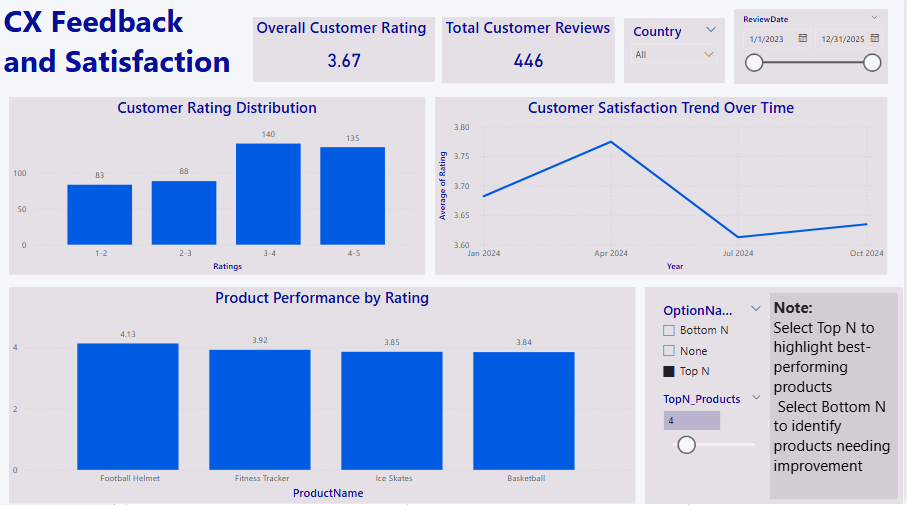

The page's visual inventory and layout, read from the dashboard file:
{"tool":"powerbi","page":{"name":"Customer Feedback & Satisfaction","canvas":[1280,720],"ordinal":3},"visuals":[{"type":"shape","box":[914.2,412.4,365.7,307.6],"z":0},{"type":"clusteredColumnChart","title":"Customer Rating Distribution","fields":{"Category":["vw_customer_reviews_final.Rating Bucket"],"Y":["CountNonNull(vw_customer_reviews_final.ReviewID)"]},"box":[12.8,143.1,589.6,252.3],"z":1000},{"type":"clusteredColumnChart","title":"Product Performance by Rating ","fields":{"Category":["vw_products_final.ProductName"],"Y":["Avg(vw_customer_reviews_final.Rating)"]},"box":[13.2,413,887.6,307.1],"z":2000},{"type":"lineChart","title":"Customer Satisfaction Trend Over Time","fields":{"Category":["vw_customer_reviews_final.ReviewDate.Variation.Date Hierarchy.Year","vw_customer_reviews_final.ReviewDate.Variation.Date Hierarchy.Quarter","vw_customer_reviews_final.ReviewDate.Variation.Date Hierarchy.Month","vw_customer_reviews_final.ReviewDate.Variation.Date Hierarchy.Day"],"Y":["Avg(vw_customer_reviews_final.Rating)"]},"box":[616.5,143.1,640.6,252.3],"z":3000},{"type":"slicer","fields":{"Values":["OptionTable.OptionName"]},"box":[926.9,426.6,164.4,127.6],"z":4000},{"type":"slicer","fields":{"Values":["TopN_Products.TopN_Products"]},"box":[926.9,554.2,164.4,165.8],"z":5000},{"type":"textbox","box":[1091.3,420.9,181.4,292],"z":6000},{"type":"card","title":"Overall Customer Rating","fields":{"Values":["KPI_Measures.Avg Rating"]},"box":[358.6,29.8,258,92.1],"z":7000},{"type":"card","title":"Total Customer Reviews","fields":{"Values":["CountNonNull(vw_customer_reviews_final.ReviewID)"]},"box":[626.5,29.8,245.2,93.5],"z":8000},{"type":"slicer","fields":{"Values":["vw_customer_reviews_final.ReviewDate"]},"box":[1040.3,18.4,216.9,104.9],"z":9000},{"type":"slicer","fields":{"Values":["vw_geography_final.Country"]},"box":[884.4,31.2,143.1,92.1],"z":10000},{"type":"textbox","box":[0,0,341.6,133.2],"z":10001}]}

Visuals, with their boxes in screenshot pixels (x1, y1, x2, y2), scaled from the page's 1280x720 canvas onto the 907x505 screenshot:
shape: [left=648, top=289, right=906, bottom=504]
"Customer Rating Distribution" clusteredColumnChart: [left=9, top=100, right=427, bottom=277]
"Product Performance by Rating " clusteredColumnChart: [left=9, top=290, right=638, bottom=504]
"Customer Satisfaction Trend Over Time" lineChart: [left=437, top=100, right=891, bottom=277]
slicer - OptionTable.OptionName: [left=657, top=299, right=773, bottom=389]
slicer - TopN_Products.TopN_Products: [left=657, top=389, right=773, bottom=504]
textbox: [left=773, top=295, right=902, bottom=500]
"Overall Customer Rating" card: [left=254, top=21, right=437, bottom=85]
"Total Customer Reviews" card: [left=444, top=21, right=618, bottom=86]
slicer - vw_customer_reviews_final.ReviewDate: [left=737, top=13, right=891, bottom=86]
slicer - vw_geography_final.Country: [left=627, top=22, right=728, bottom=86]
textbox: [left=0, top=0, right=242, bottom=93]
